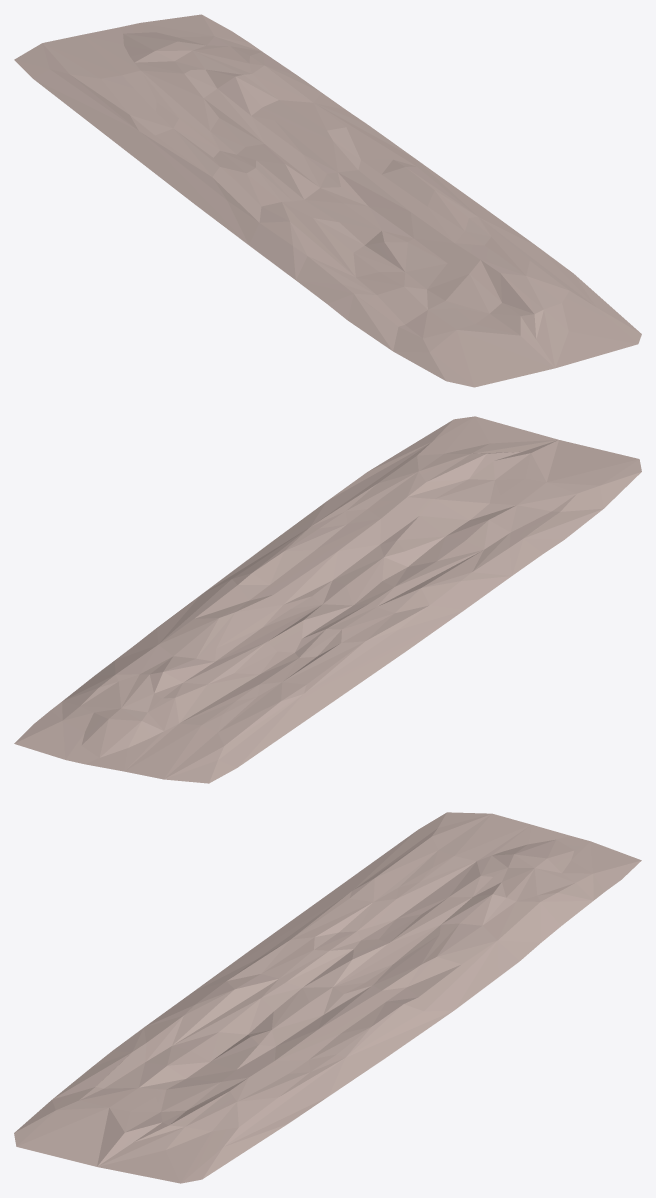
Rendered from road_004.fbx.
3 renders of one model, top to bottom at view 1: azimuth 30°, elevation 25°; view 2: azimuth 150°, elevation 25°; view 3: azimuth 330°, elevation 25°, orthographic.
Parts seen in each view (by area): view 1: road_004; view 2: road_004; view 3: road_004.
Boxes of the visible parts, x1,y1,x2,y2 form: road_004: (14,14,641,387); road_004: (14,416,641,783); road_004: (14,812,641,1183).
Size of the model in its own units: 815 by 2983 by 76.4.
